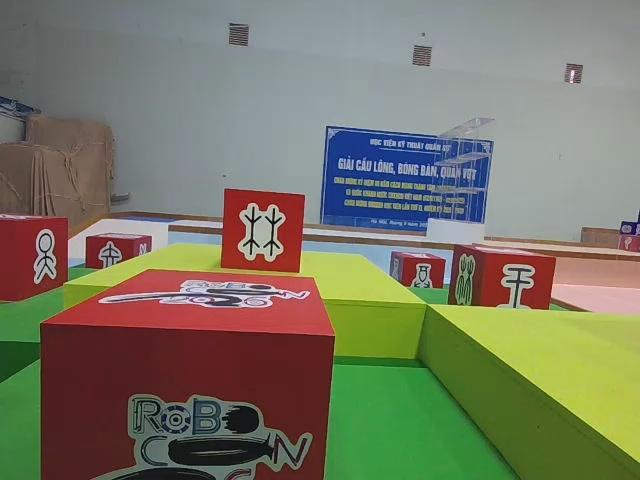R1: (39, 267, 336, 480)
R2 Fake: (450, 244, 557, 315), (85, 233, 153, 277)
R2 Real: (222, 190, 304, 275), (0, 215, 68, 302), (389, 253, 445, 297)
